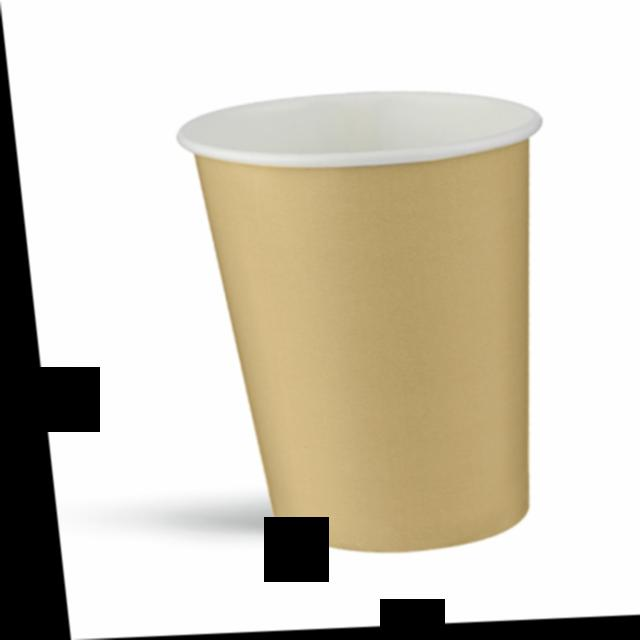karton-bardak: (140, 44, 582, 568)
